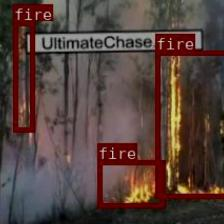fire: (154, 49, 224, 196), (97, 159, 164, 207), (13, 21, 33, 132)
